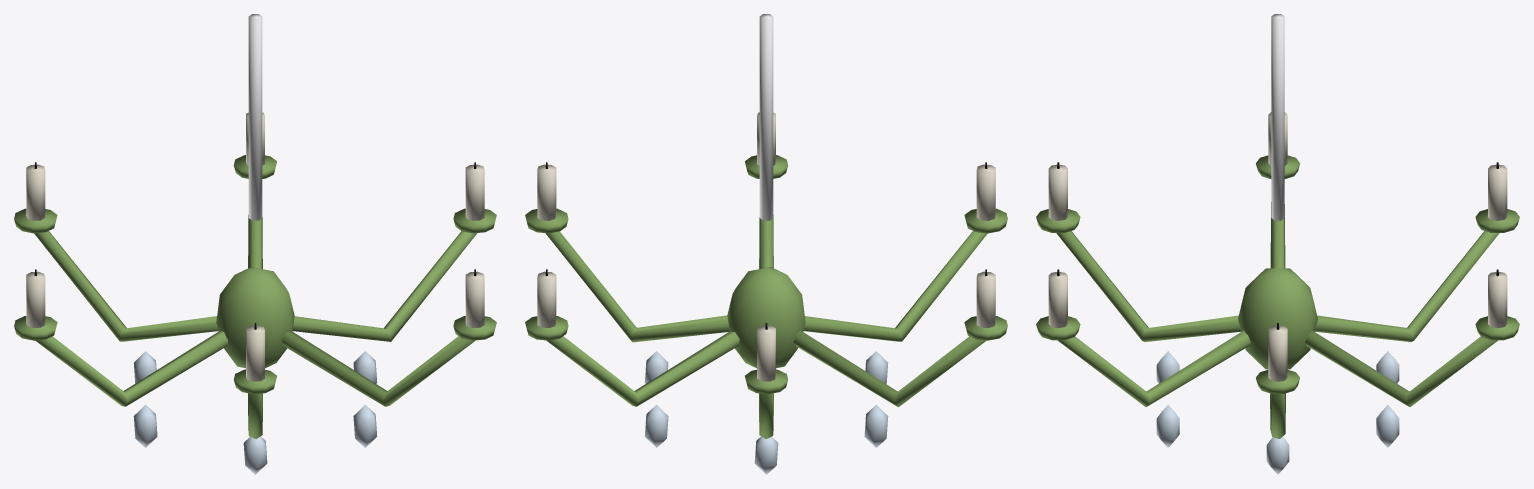
File: cactus_chandelier_v0.glb
3 renders of one model, left to right at view 1: azimuth 30°, elevation 25°; view 2: azimuth 150°, elevation 25°; view 3: azimuth 270°, elevation 25°, orthographic.
Visible parts, largest first — view 1: cactus_chandelier_v0; view 2: cactus_chandelier_v0; view 3: cactus_chandelier_v0.
Part boxes in pixels (<box>): cactus_chandelier_v0: <box>14,14,496,474</box>; cactus_chandelier_v0: <box>525,14,1007,474</box>; cactus_chandelier_v0: <box>1036,14,1519,474</box>.
Bounding box in the file's own units: 1.24 × 1 × 1.09.
